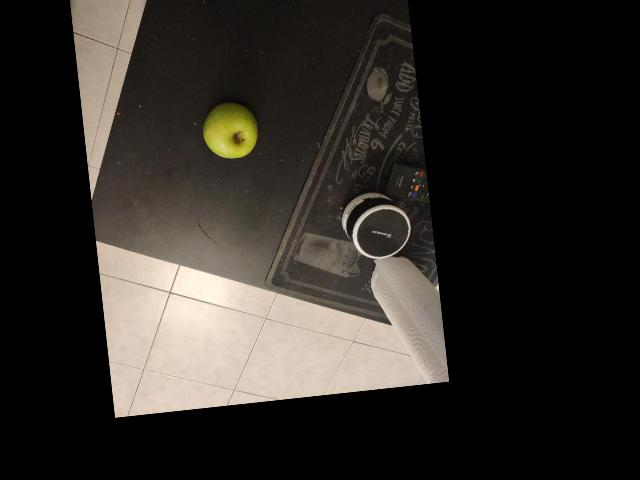apple: (121, 225, 201, 301)
